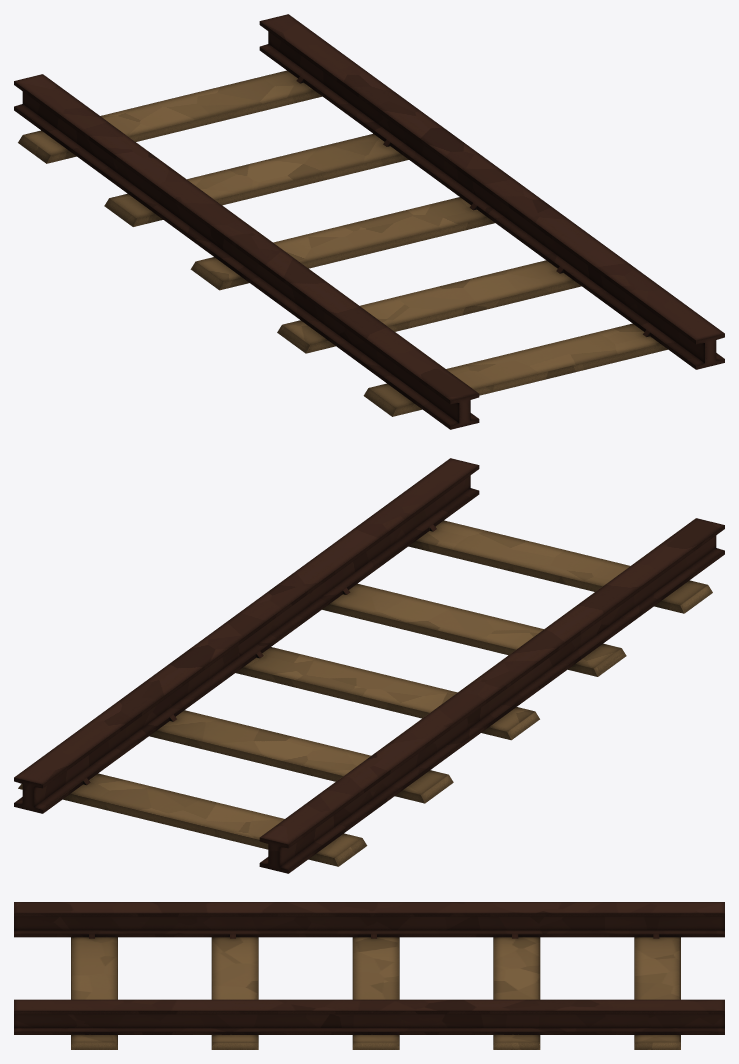
The model's file is VIAS.fbx.
3 renders of one model, top to bottom at view 1: azimuth 30°, elevation 25°; view 2: azimuth 150°, elevation 25°; view 3: azimuth 270°, elevation 25°, orthographic. The views are drawn at different scales.
Parts seen in each view (by area): view 1: VIAS_Baked; view 2: VIAS_Baked; view 3: VIAS_Baked.
Part boxes in pixels (x1,y1,x2,y2): VIAS_Baked: (14,14,724,429); VIAS_Baked: (14,458,724,873); VIAS_Baked: (14,902,724,1049).
Bounding box in the file's own units: 177 × 19.14 × 416.
1 material, 1 textured.
